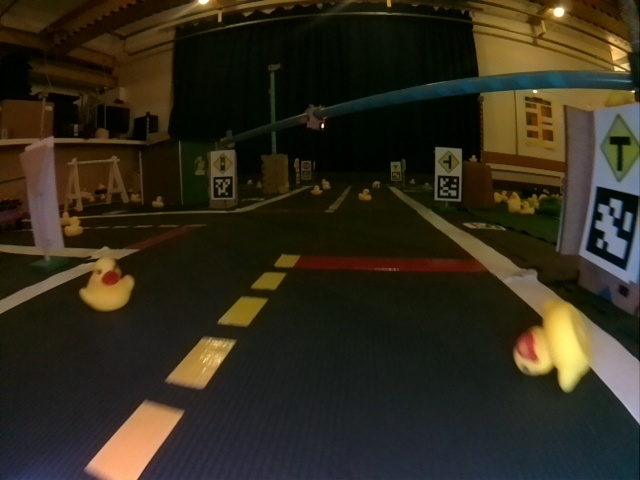Duckie: (515, 302, 589, 392), (80, 257, 135, 308), (65, 217, 82, 234), (519, 202, 535, 214), (358, 189, 372, 201), (154, 196, 164, 206), (311, 185, 322, 194)
Intersection sign: (599, 113, 638, 182), (439, 148, 461, 172), (391, 163, 401, 172)
QR code: (580, 185, 637, 282), (437, 176, 461, 200), (211, 177, 234, 200), (463, 221, 505, 230)
Signal sign: (211, 154, 230, 175)
Traffic light: (305, 104, 326, 131)
